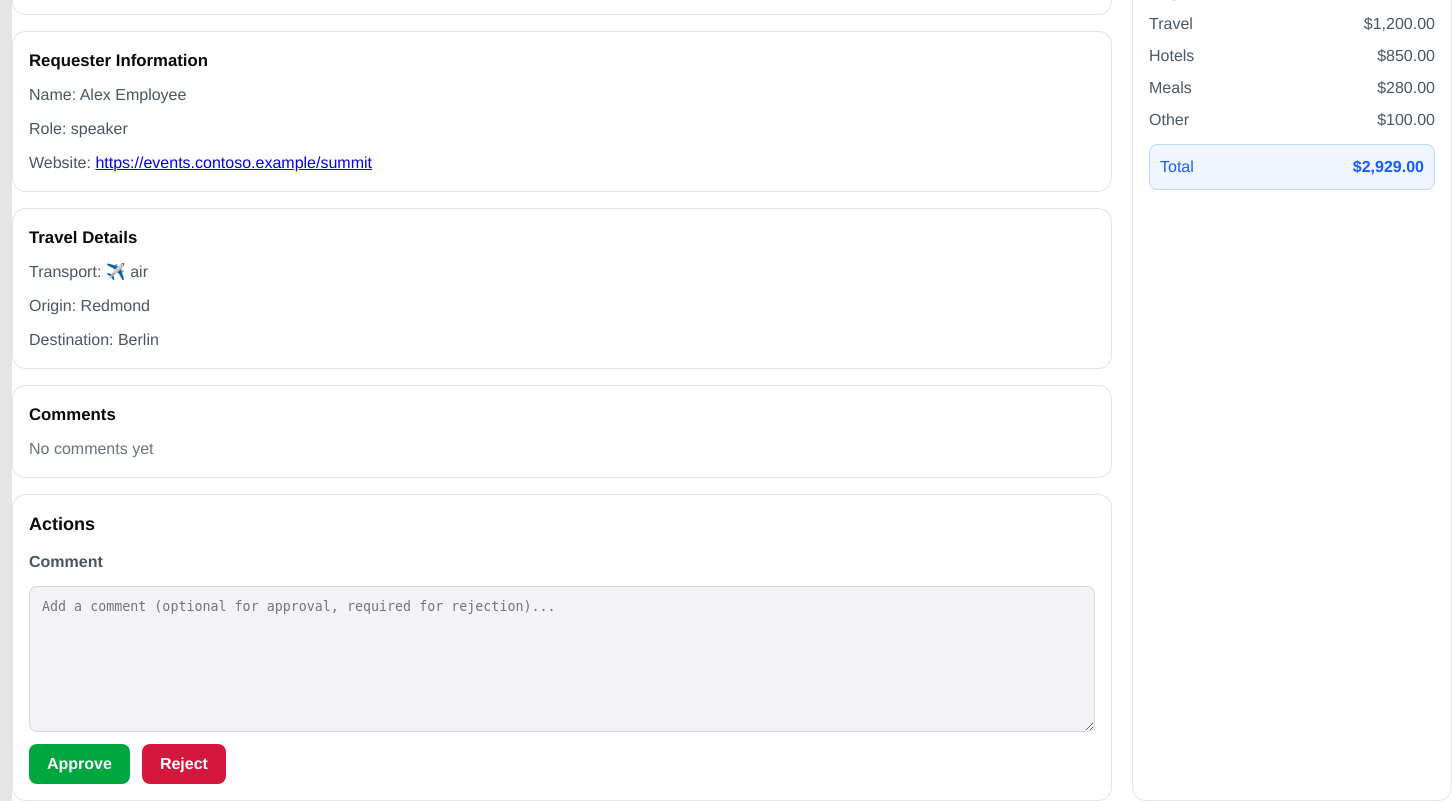
Test: ApproverReviewPage › shows a user-friendly conflict message when decision version is stale
(page scrolled)
Click the button "Approve": (79, 764) [29,744,130,784]
(page scrolled)
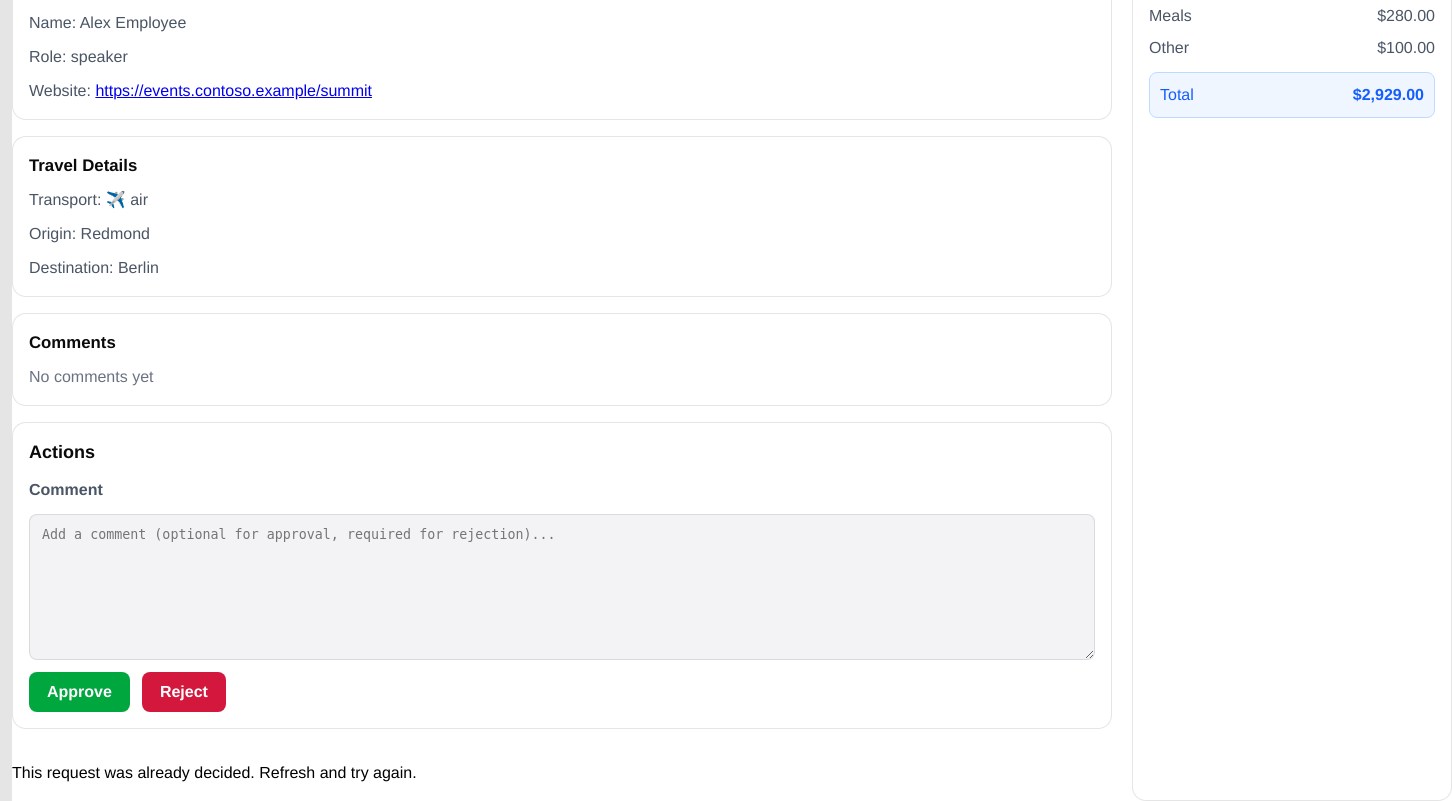
Now the text "This request was already decided. Refresh and try again." is shown, box [12,764,417,781]
